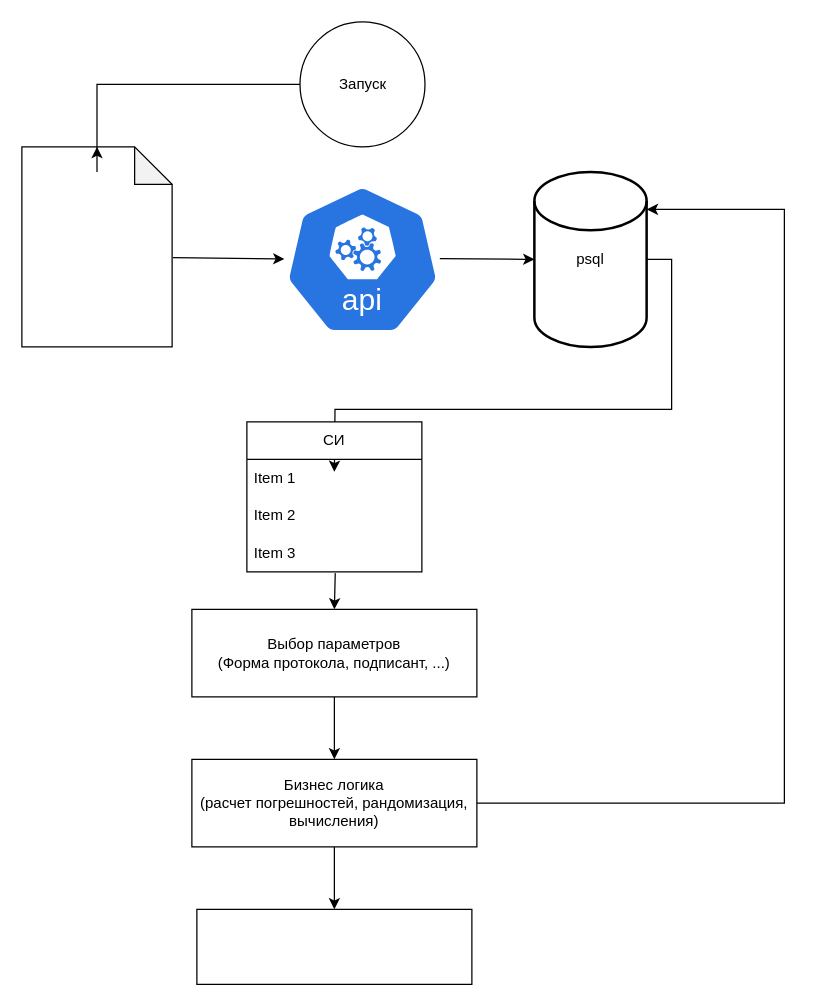
The diagram is 816 pixels wide and 1006 high, and some of its shapes have lost their labels. Each missing label, with the centre of its shape:
"txt, svg, excl result_docnum (Номер свидетельства)" goes at pixel 96 246.
"Генерация протокоолов" goes at pixel 334 946.
